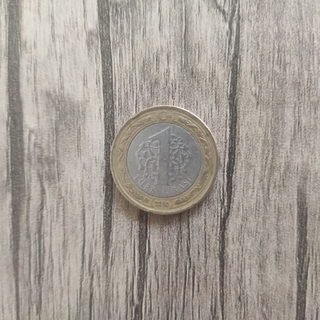1TL: (107, 103, 220, 217)
